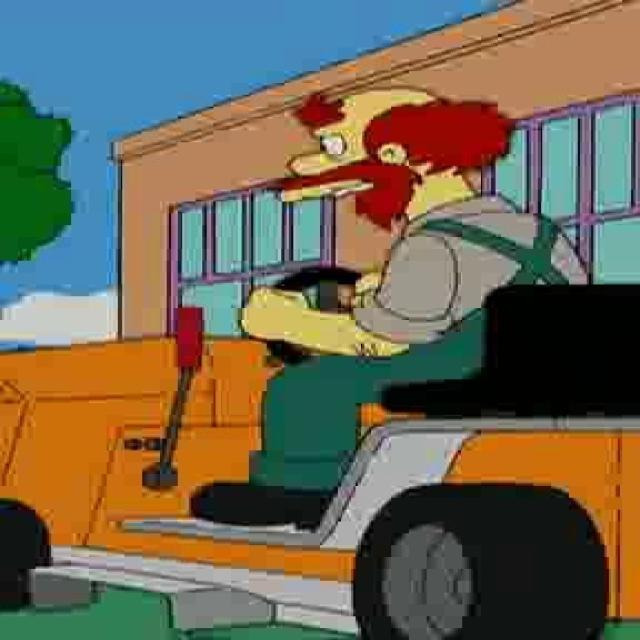Groundskeeper Willie: (268, 84, 514, 236)
